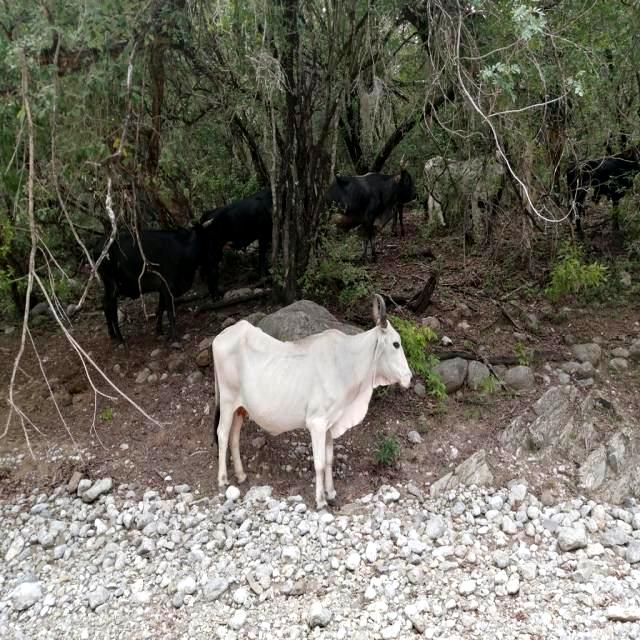COW: (212, 295, 412, 508)
